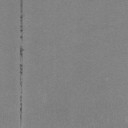slag inclusion: (20, 0, 23, 32), (20, 46, 24, 58), (20, 64, 22, 75), (20, 103, 22, 113), (20, 35, 23, 40), (20, 81, 22, 86)
